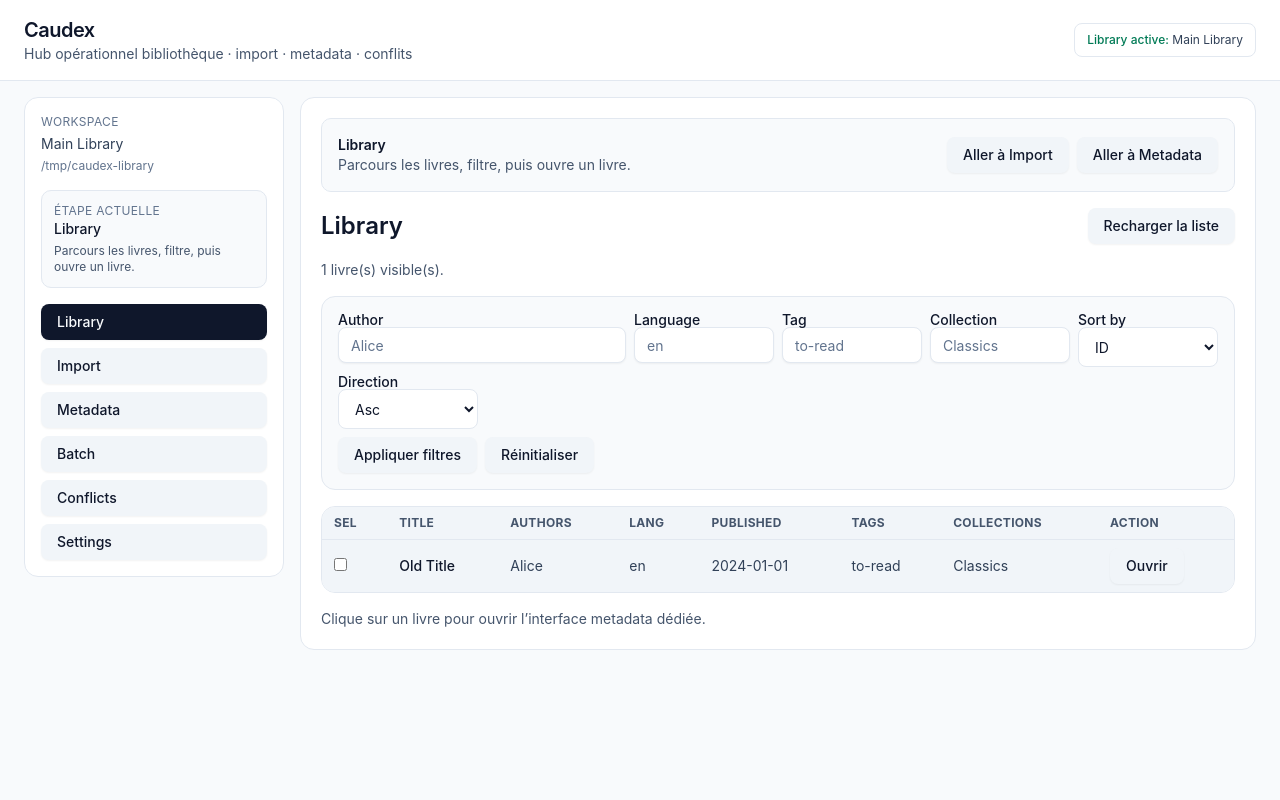
workspace flow › runs batch preview and execute on selected items
Click the button "Batch" at (154, 454), box [41, 436, 267, 472]
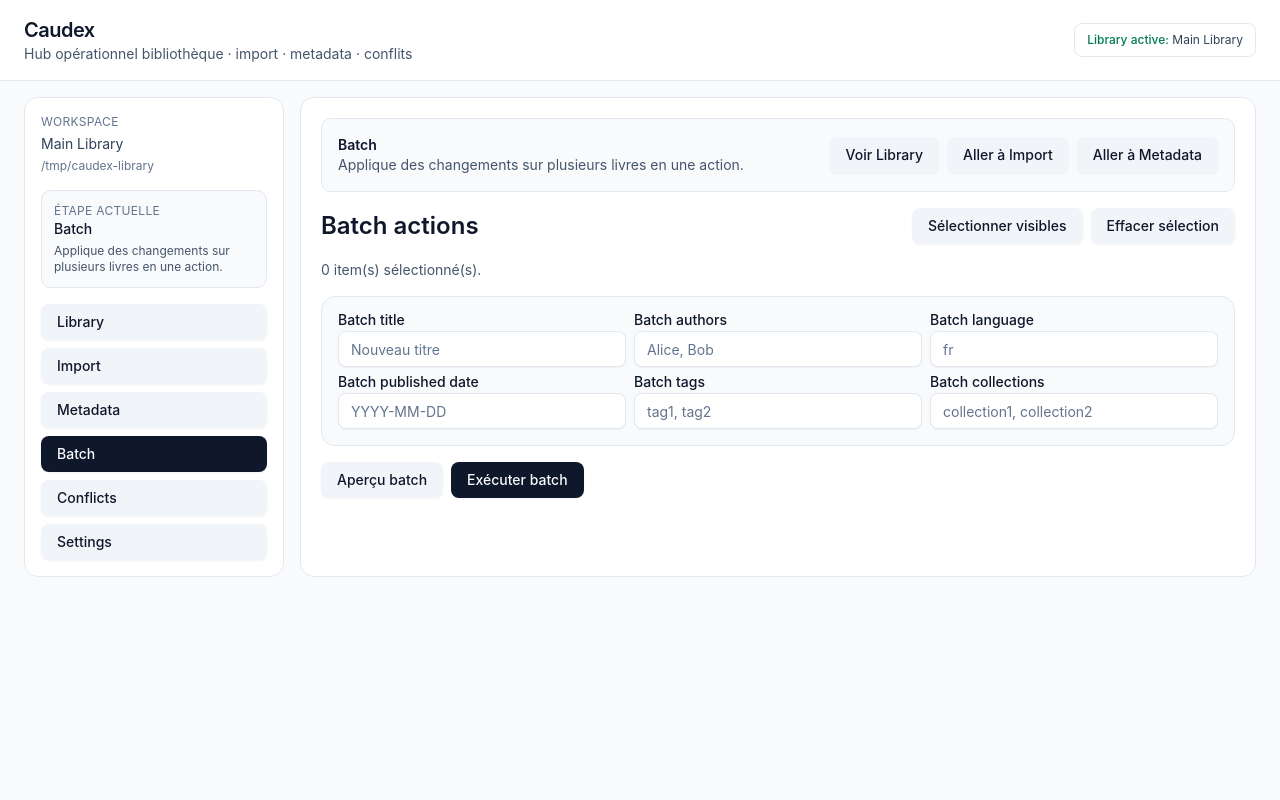
Click the button "Sélectionner visibles" at (997, 226), box [912, 208, 1083, 244]
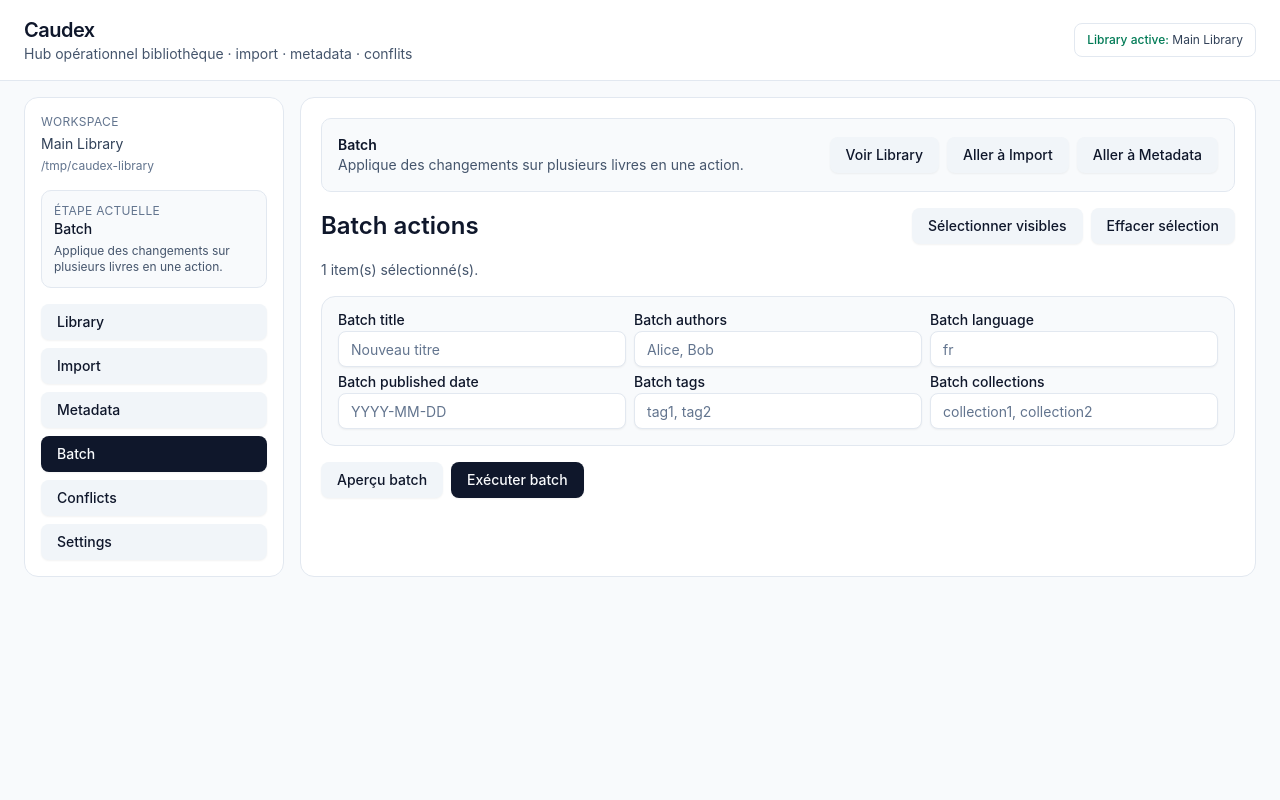
Type "Batch Title" into the field labelled "Batch title" at (482, 349), box [338, 331, 626, 367]
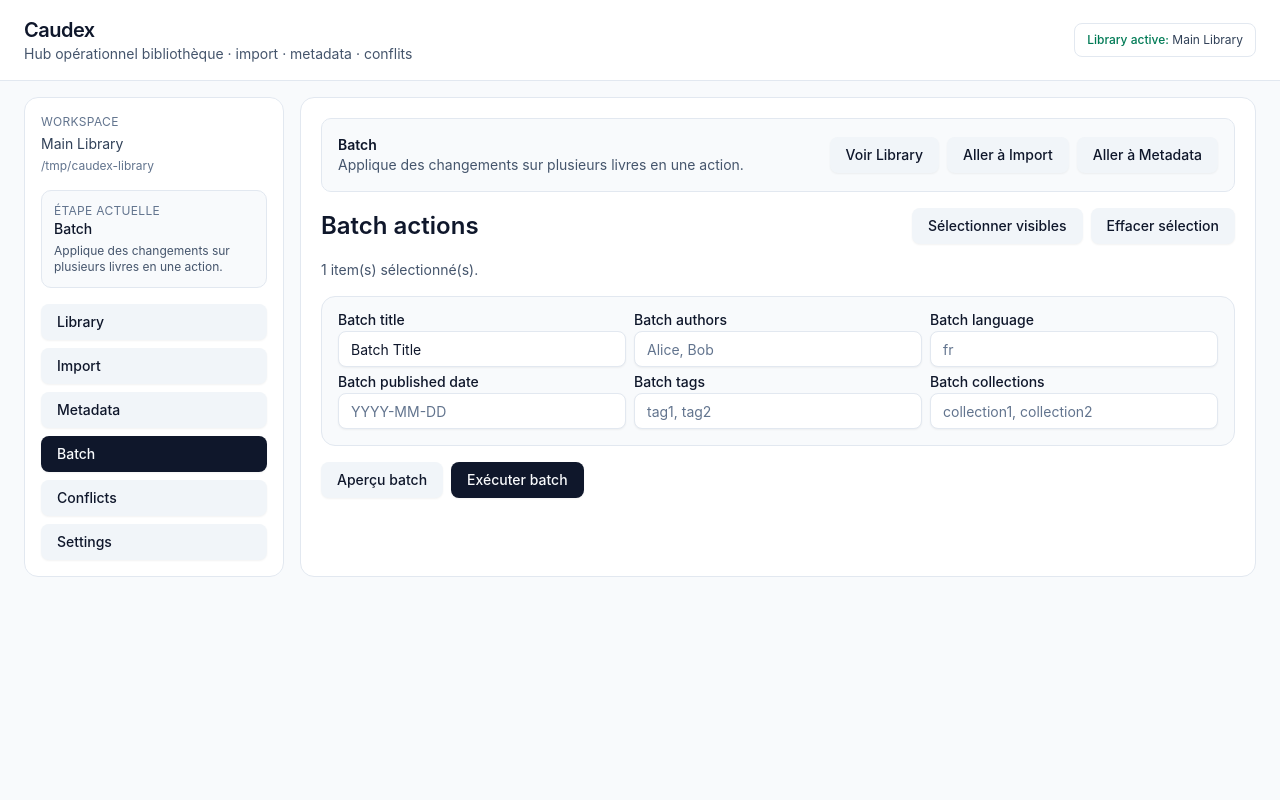
Click the button "Aperçu batch" at (382, 480), box [321, 462, 443, 498]
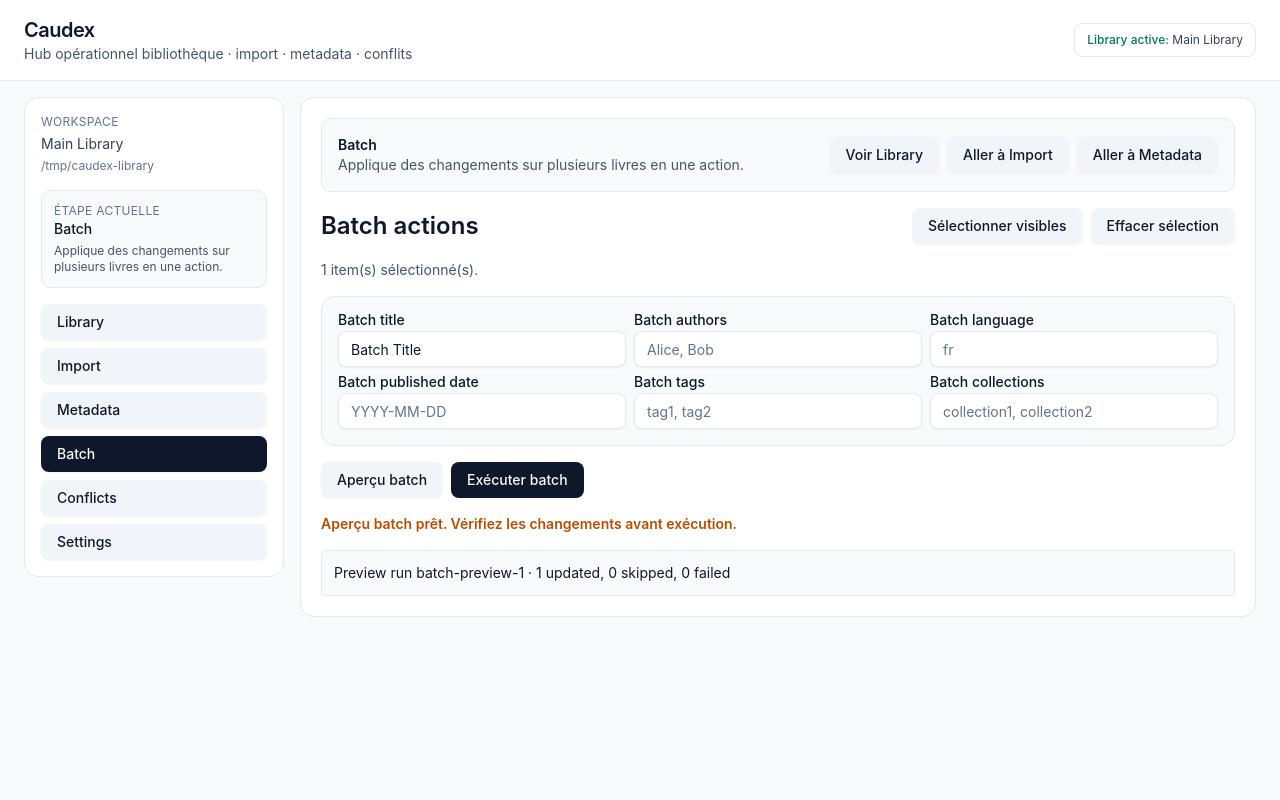
Click the button "Exécuter batch" at (517, 480), box [451, 462, 584, 498]
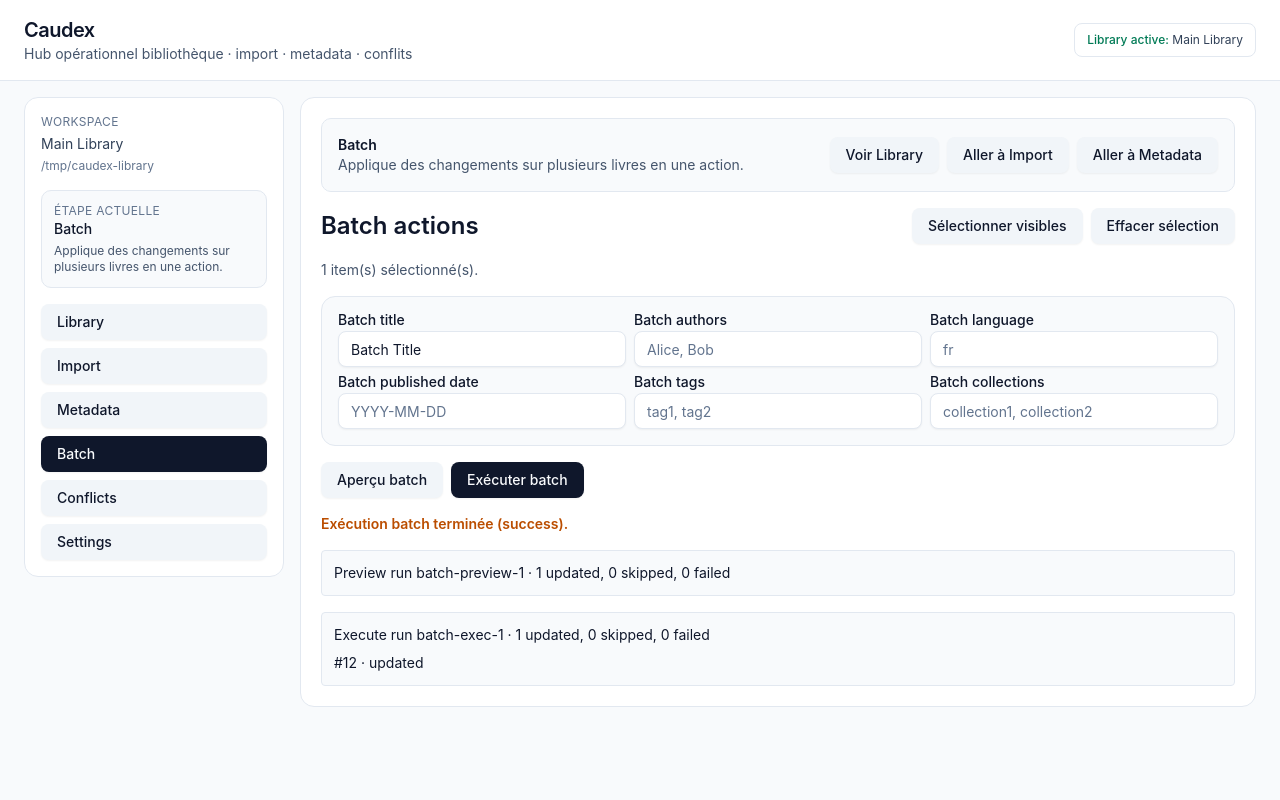
Expected: the text "Execute run batch-exec-1 · 1 updated, 0 skipped, 0 failed" is shown, [334, 626, 710, 643]
